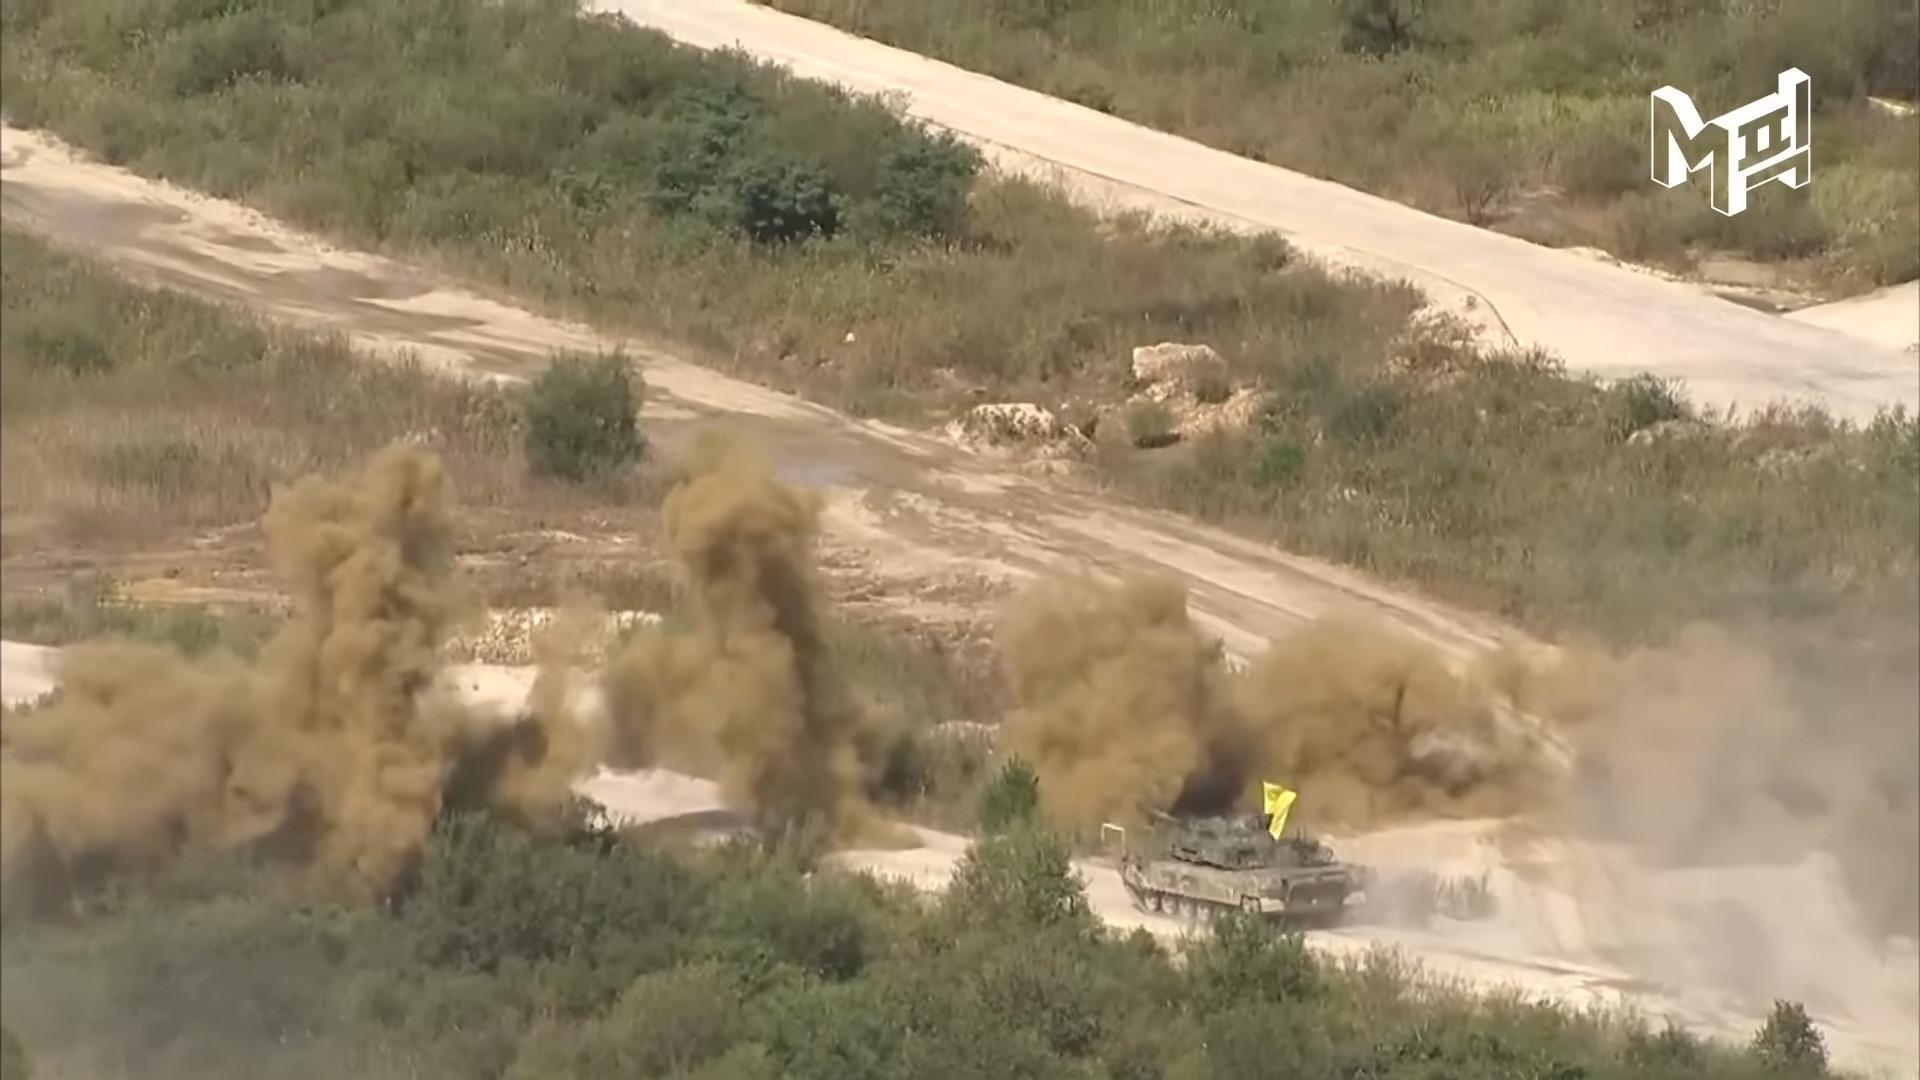tank: (1118, 802, 1352, 932)
